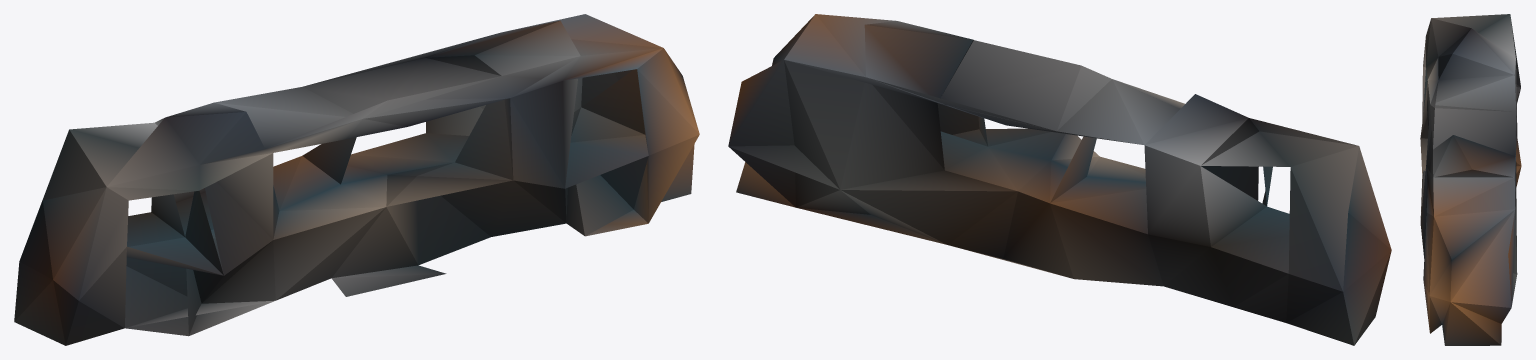
Rendered from metro-train.glb.
3 renders of one model, left to right at view 1: azimuth 30°, elevation 25°; view 2: azimuth 150°, elevation 25°; view 3: azimuth 270°, elevation 25°, orthographic. The views are drawn at different scales.
Parts seen in each view (by area): view 1: metro-train-far; view 2: metro-train-far; view 3: metro-train-far.
Boxes of the visible parts, <box> form: metro-train-far: <box>14,14,699,345</box>; metro-train-far: <box>728,14,1391,345</box>; metro-train-far: <box>1420,14,1521,345</box>.
Bounding box in the file's own units: 13.05 × 3.79 × 2.42.
